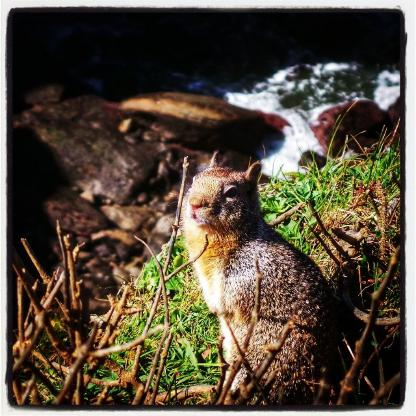Squirrel: (178, 160, 344, 404)
